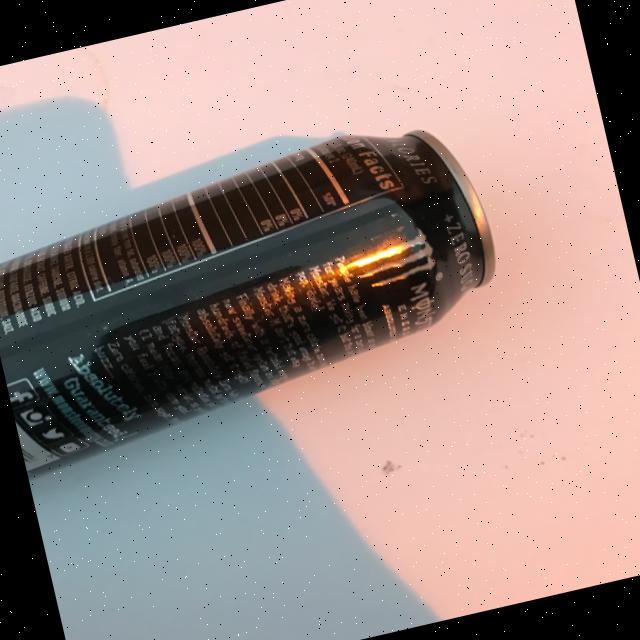metal: (0, 105, 521, 477)
